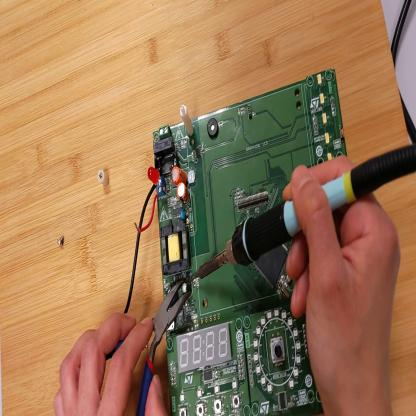hand: (285, 157, 403, 416), (52, 312, 167, 416)
low voltage board: (125, 69, 348, 415)
pliers: (106, 275, 195, 413)
welder probe tip: (188, 144, 416, 283)
working area: (2, 3, 416, 413)
